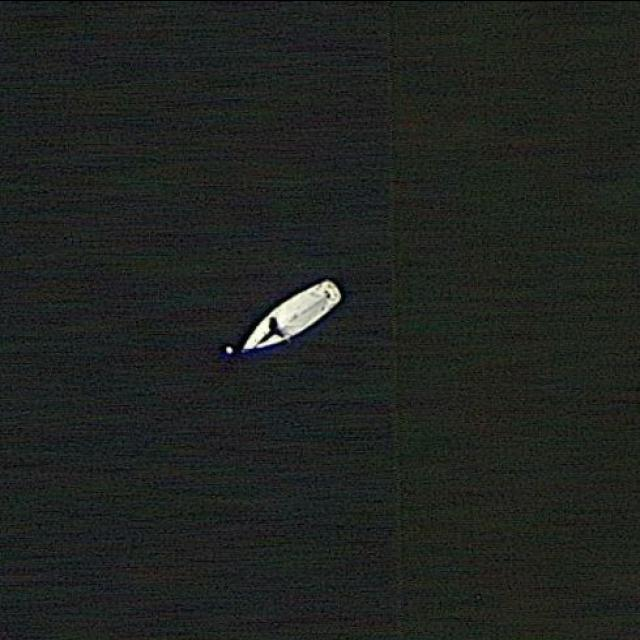ship: (238, 275, 346, 357)
